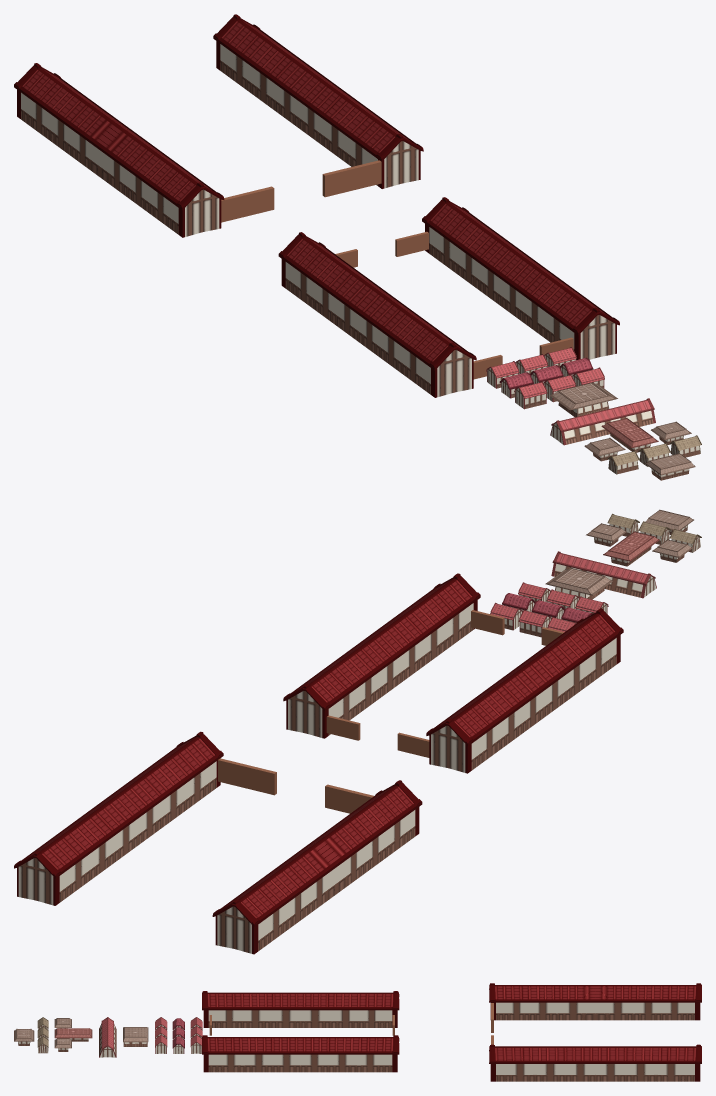
The model's file is Suzaku Building.fbx.
3 views of the same model, one above another, from view 1: azimuth 30°, elevation 25°; view 2: azimuth 150°, elevation 25°; view 3: azimuth 270°, elevation 25° (orthographic). The views are drawn at different scales.
Visible parts, largest first — view 1: Cube.016, Cube.009, Cube.012, Cube.004, Cube.006, Cube, Cube.005, Cube.008, Cube.007, Cube.001, Cube.003, Cube.011 (+2 smaller); view 2: Cube.016, Cube.009, Cube.012, Cube.004, Cube.008, Cube.005, Cube.011, Cube, Cube.006, Cube.001, Cube.007, Cube.003 (+1 smaller); view 3: Cube.016, Cube.009, Cube.004, Cube.005, Cube.003, Cube.006, Cube.007, Cube.008, Cube, Cube.001, Cube.002.
Part boxes in pixels (x1,y1,x2,y2): Cube.016: (14,14,423,237); Cube.009: (278,197,619,397); Cube.012: (221,160,381,222); Cube.004: (550,398,655,445); Cube.006: (514,367,604,409); Cube: (607,435,701,474); Cube.005: (550,382,617,417); Cube.008: (486,347,576,388); Cube.007: (499,357,593,398); Cube.001: (584,421,691,461); Cube.003: (601,418,658,452); Cube.011: (335,231,428,267); Cube.016: (14,731,422,954); Cube.009: (283,573,623,773); Cube.012: (218,758,373,813); Cube.004: (551,551,656,598); Cube.008: (490,602,576,637); Cube.005: (545,567,612,599); Cube.011: (326,715,429,757); Cube: (607,513,701,552); Cube.006: (518,582,608,613); Cube.001: (586,523,692,562); Cube.007: (502,593,592,622); Cube.003: (603,531,659,566); Cube.016: (489,983,701,1081); Cube.009: (202,991,399,1072); Cube.004: (99,1017,116,1057); Cube.005: (123,1027,148,1046); Cube.003: (54,1028,92,1041); Cube.006: (155,1017,167,1053); Cube.007: (172,1018,184,1053); Cube.008: (190,1017,202,1053); Cube: (37,1017,48,1053); Cube.001: (54,1018,71,1051); Cube.002: (14,1029,34,1045).
Bounding box in the file's own units: 8597 × 1652 × 33589.
